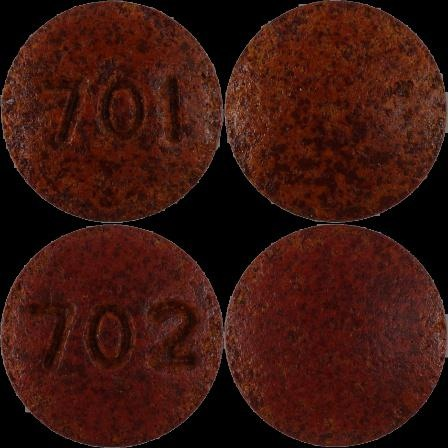42937-701: (0, 0, 224, 224)
